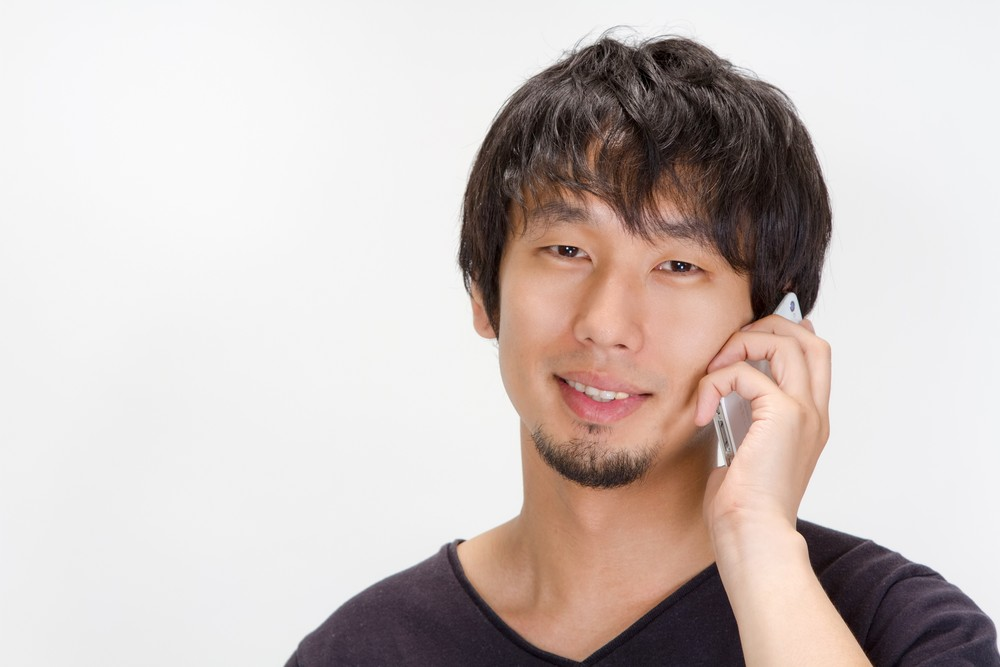phone: (689, 291, 837, 477)
talk: (502, 187, 853, 564)
